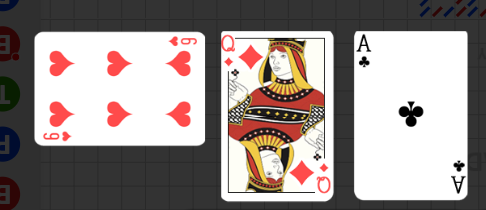6H: (167, 35, 198, 48), (42, 129, 73, 142)
AC: (356, 33, 373, 71)
QD: (234, 31, 278, 78), (301, 152, 345, 198)
